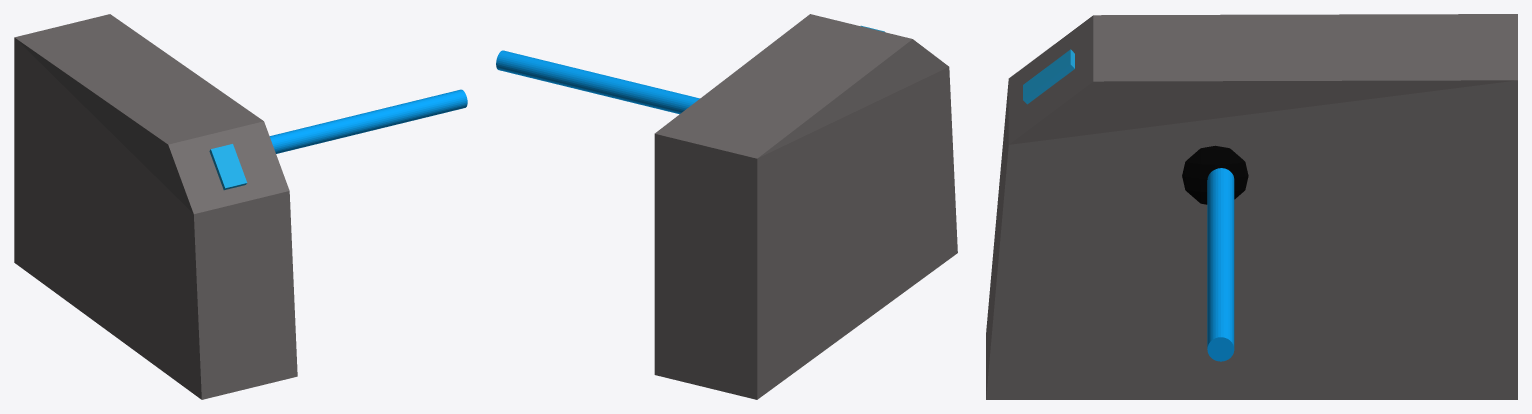
Rendered from Guiche.glb.
The picture shows the model from 3 angles, left to right: view 1: azimuth 30°, elevation 25°; view 2: azimuth 150°, elevation 25°; view 3: azimuth 270°, elevation 25°; orthographic projection. The views are drawn at different scales.
Parts seen in each view (by area): view 1: Cube, Cylinder; view 2: Cube, Cylinder; view 3: Cube, Cylinder, Sphere.
Boxes of the visible parts, x1=… form: Cube: x1=14, y1=14, x2=297, y2=399; Cylinder: x1=269, y1=89, x2=467, y2=153; Cube: x1=654, y1=14, x2=957, y2=399; Cylinder: x1=496, y1=50, x2=699, y2=114; Cube: x1=986, y1=14, x2=1517, y2=399; Cylinder: x1=1207, y1=168, x2=1234, y2=361; Sphere: x1=1182, y1=145, x2=1248, y2=204.
Size of the model in its own units: 7.18 by 4.52 by 6.78.
